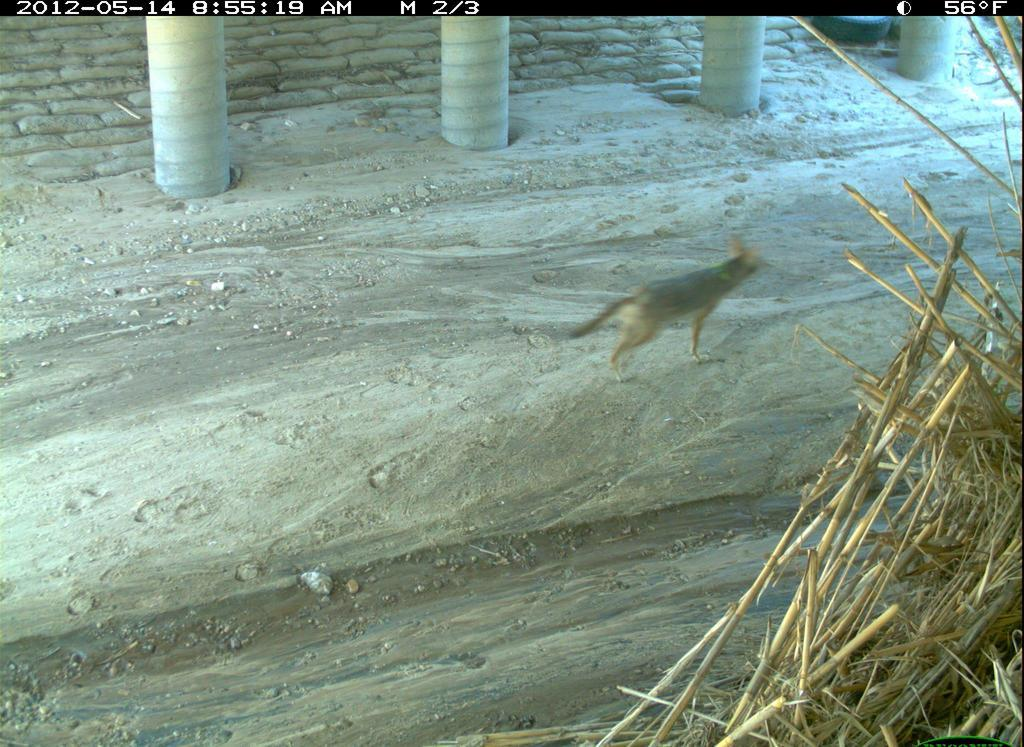coyote: (561, 226, 792, 404)
